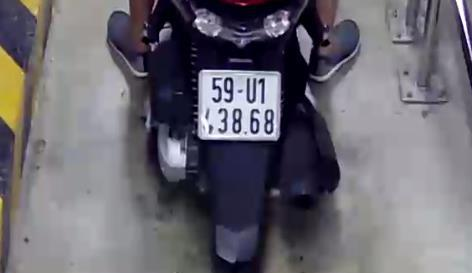lisence: (198, 69, 282, 141)
